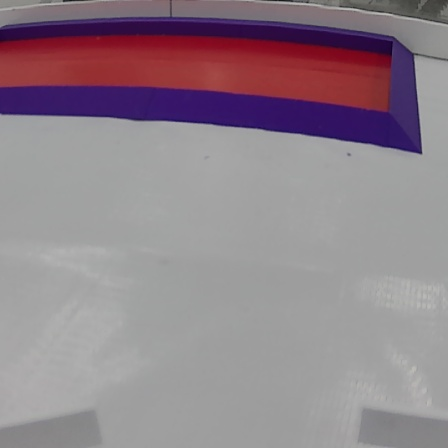red_aim: (0, 21, 430, 154)
